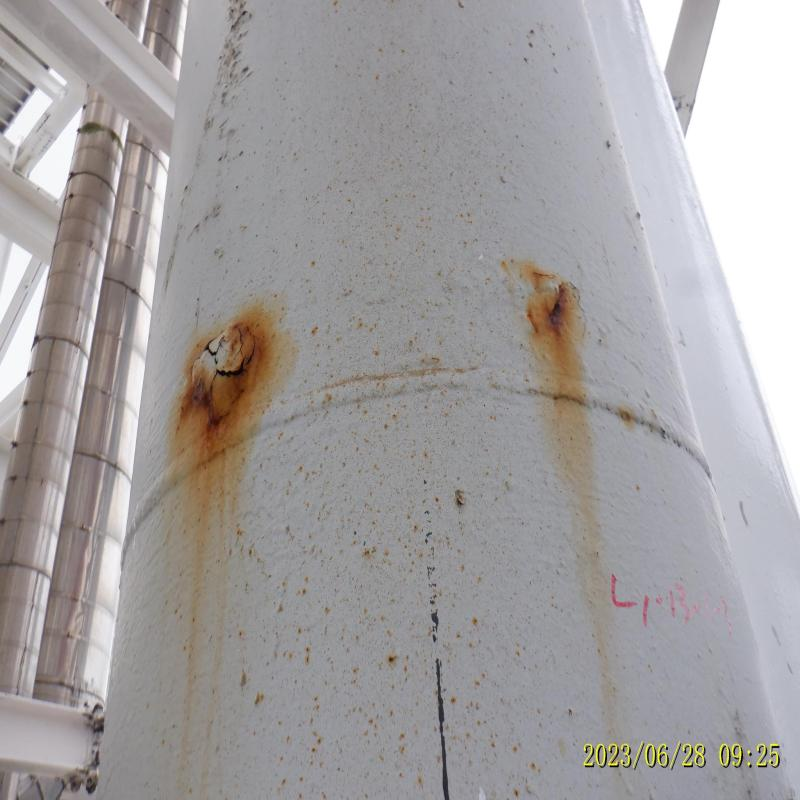corrosion: (180, 310, 275, 469), (529, 258, 584, 383)
